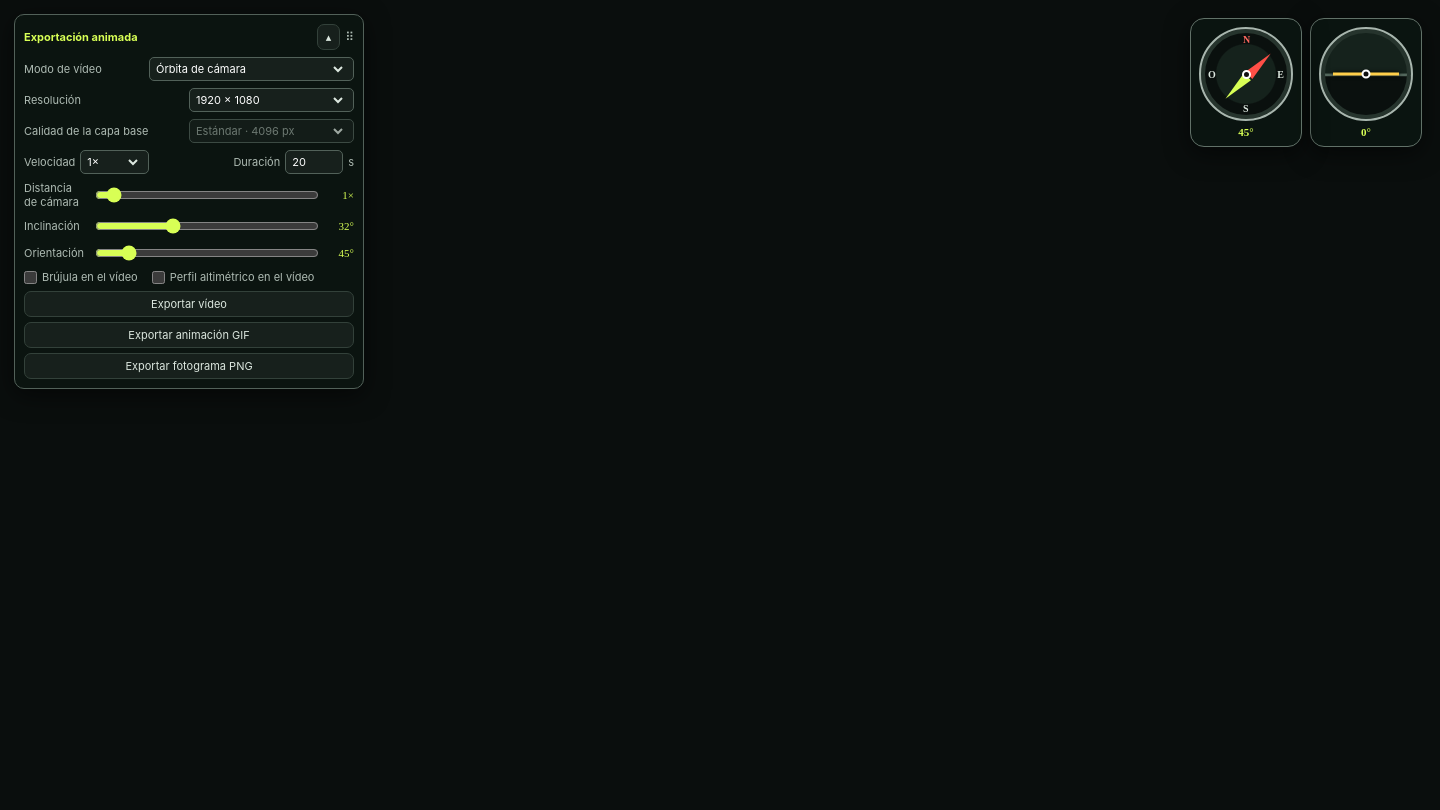
exportación del visor 3D › restaura los controles tras un fallo de codificación
The image size is (1440, 810).
Click the button "Exportar vídeo".
click(189, 304)  # box [24, 291, 354, 317]
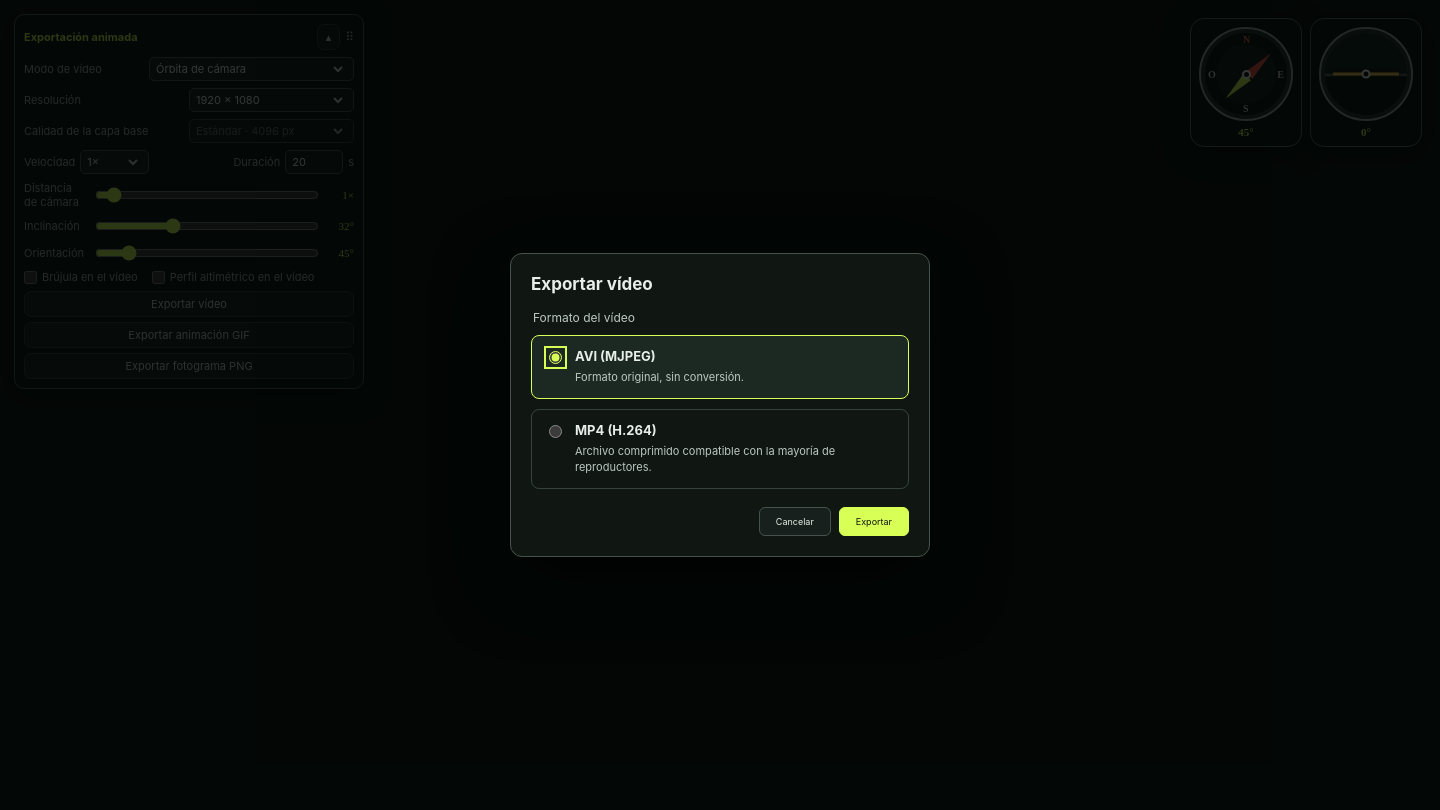
Click the button "Exportar".
click(874, 521)  # box [839, 507, 909, 536]
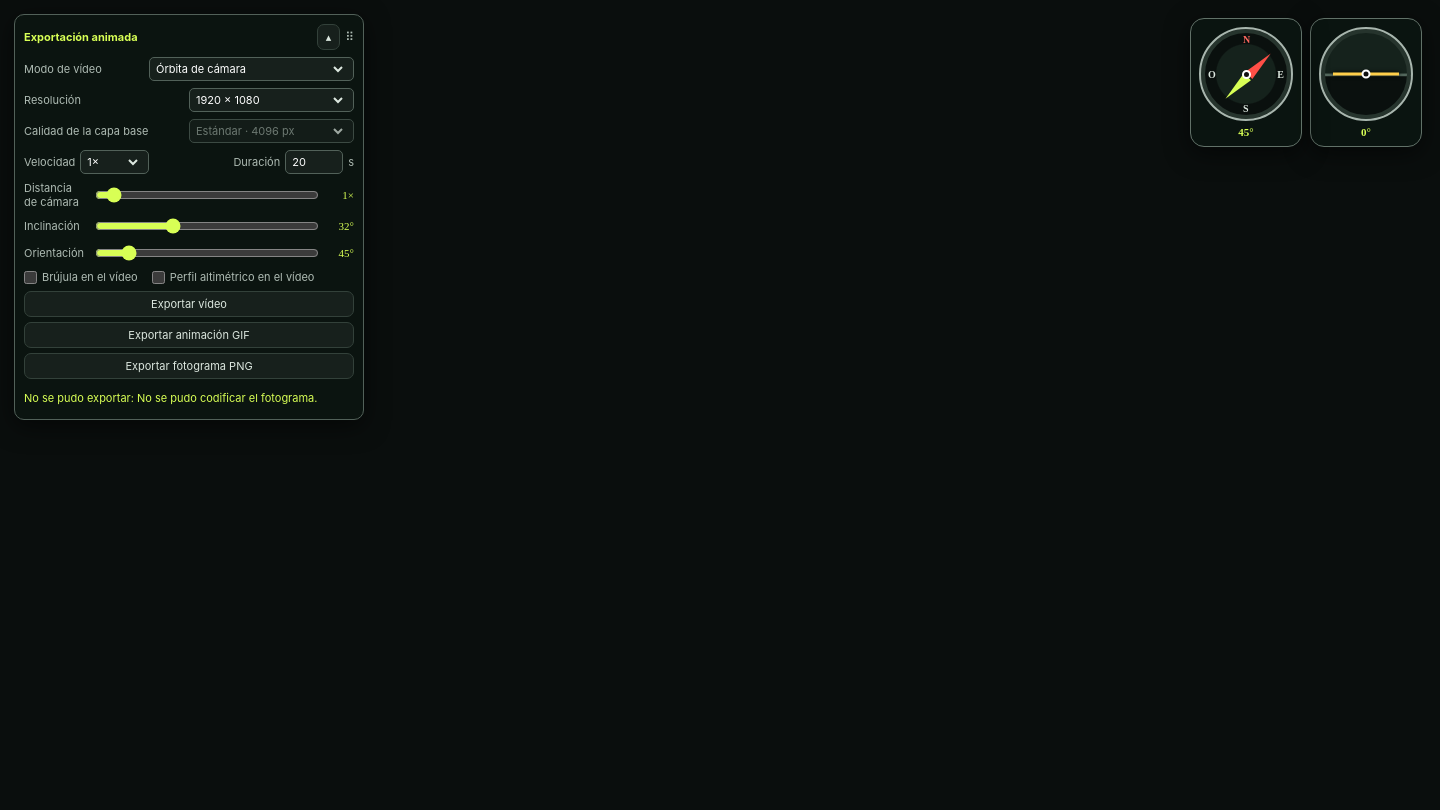
Check: the dropdown named "Tipo de animación" is enabled, box [149, 57, 354, 81]
Check: the text "No se pudo exportar: No se pudo codificar el fotograma." is shown, box [24, 391, 317, 405]
